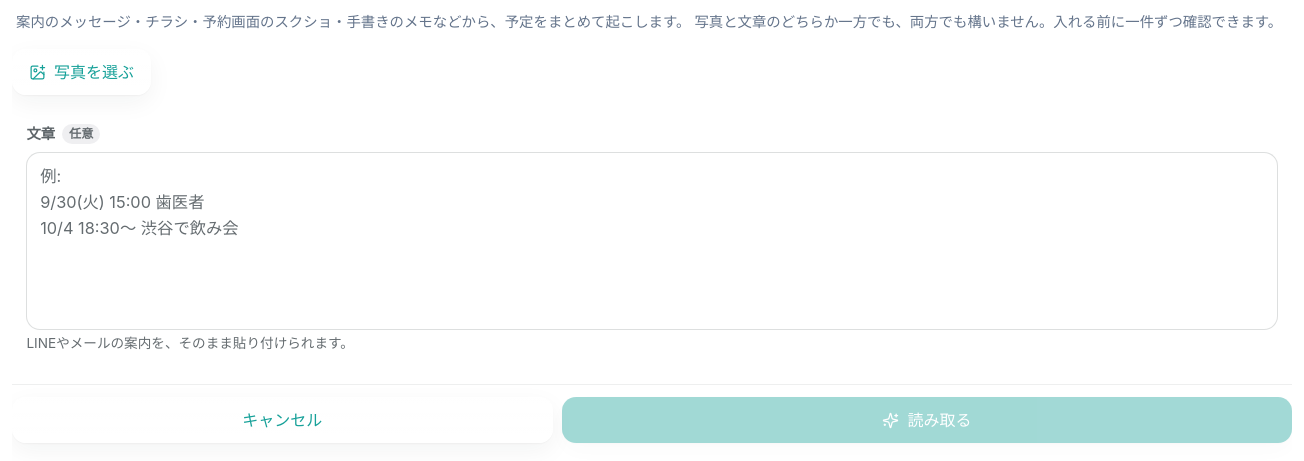
Test: 写真・文章から予定を作る画面 › 同じ内容が既に予定にあれば入れない
In the text box with placeholder "例: 9/30(火) 15:00 歯医者 10/4 18:30〜 渋谷で飲み会": (652, 241) [26,152,1278,330], type "9/30 15:00 歯医者"
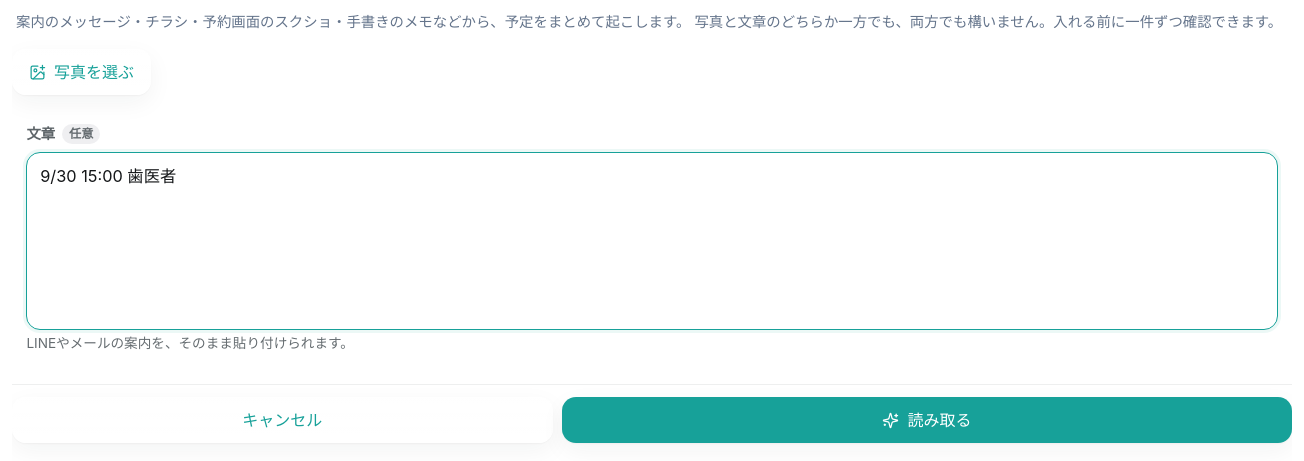
Click the button "読み取る": click(927, 420) [562,397,1292,443]
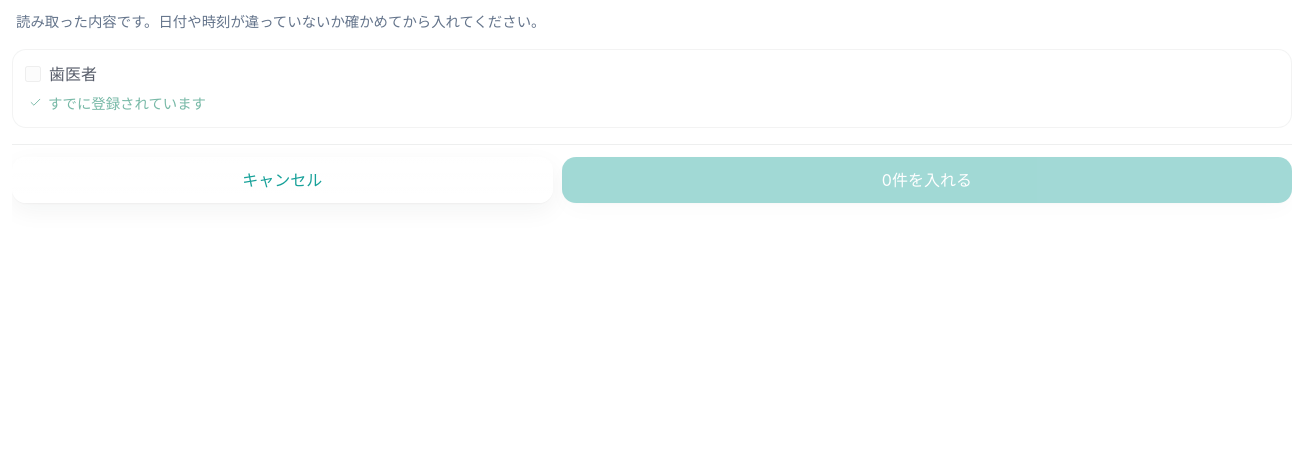
Result: the text "すでに登録されています" is shown at [29,95,206,112]
Result: the button "0件を入れる" is disabled at [562,157,1292,203]
